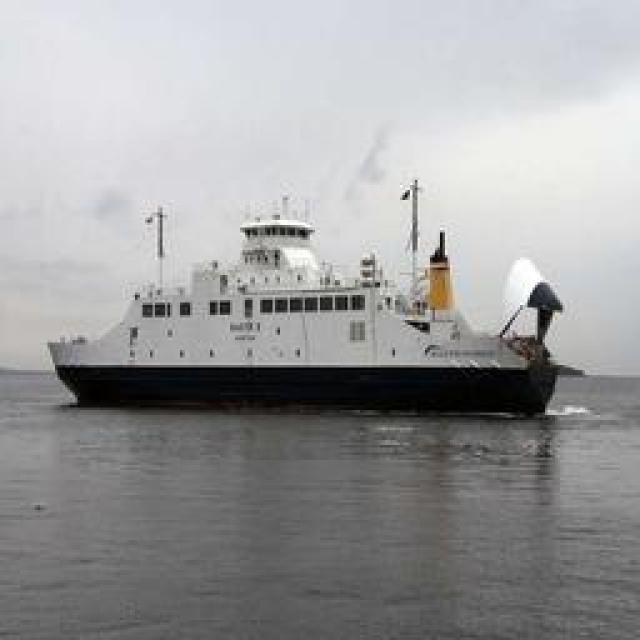Ship: (31, 185, 579, 413)
